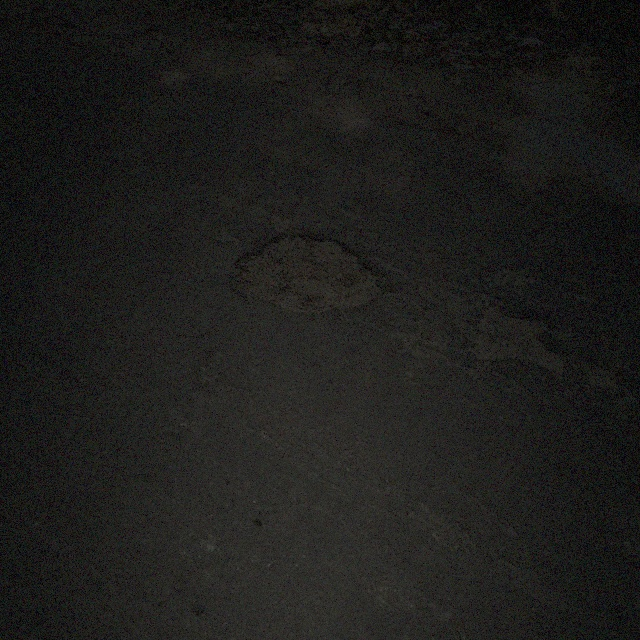pothole: (226, 228, 384, 318), (465, 300, 566, 380)
